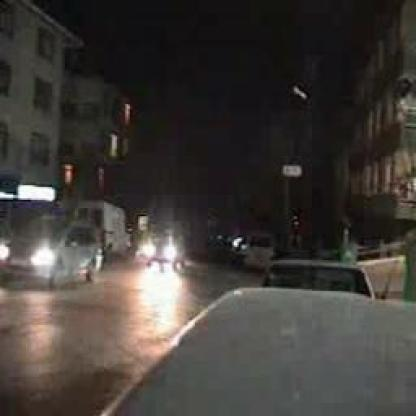other: (135, 237, 180, 264), (17, 181, 55, 204), (28, 245, 54, 267), (0, 239, 10, 265)
